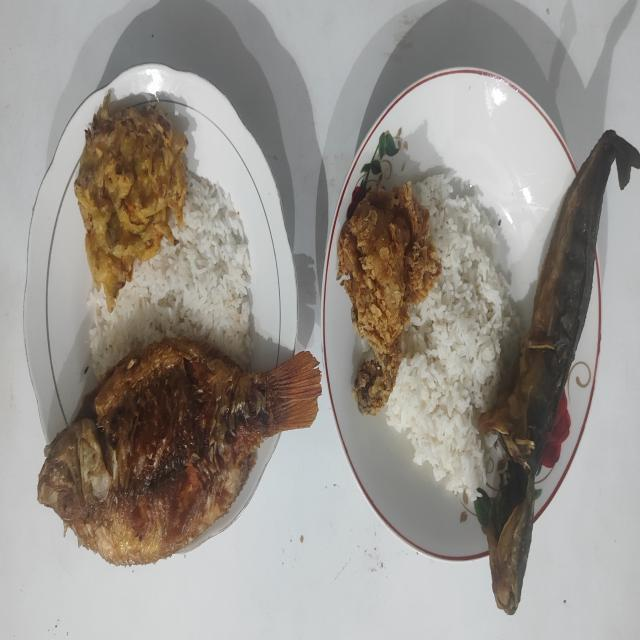ikan_mujair: (38, 338, 321, 565)
nasi_putih: (384, 174, 520, 502), (86, 171, 253, 381)
